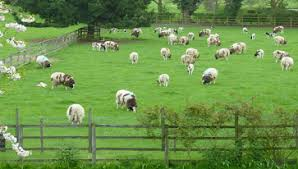sheep: (61, 101, 91, 128), (115, 87, 142, 114), (48, 69, 78, 92), (199, 64, 224, 86), (157, 71, 174, 92), (156, 46, 175, 61), (127, 27, 146, 42), (228, 41, 247, 56), (278, 53, 295, 69), (101, 40, 120, 54), (154, 27, 178, 38), (212, 47, 230, 61), (35, 55, 51, 69), (268, 48, 289, 58), (169, 33, 185, 46), (273, 35, 290, 47), (206, 33, 222, 44), (185, 48, 200, 59), (129, 51, 140, 66), (186, 62, 197, 76), (182, 54, 194, 66), (253, 46, 263, 60), (273, 23, 287, 33), (185, 32, 196, 42), (197, 28, 212, 35), (264, 30, 274, 39), (240, 26, 250, 35), (249, 32, 255, 41)
